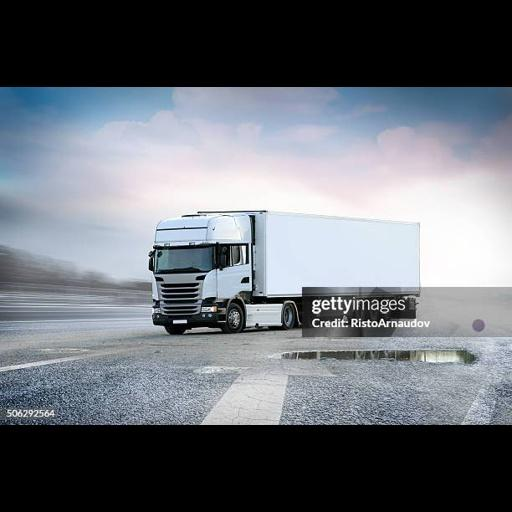truck: (147, 211, 422, 338)
